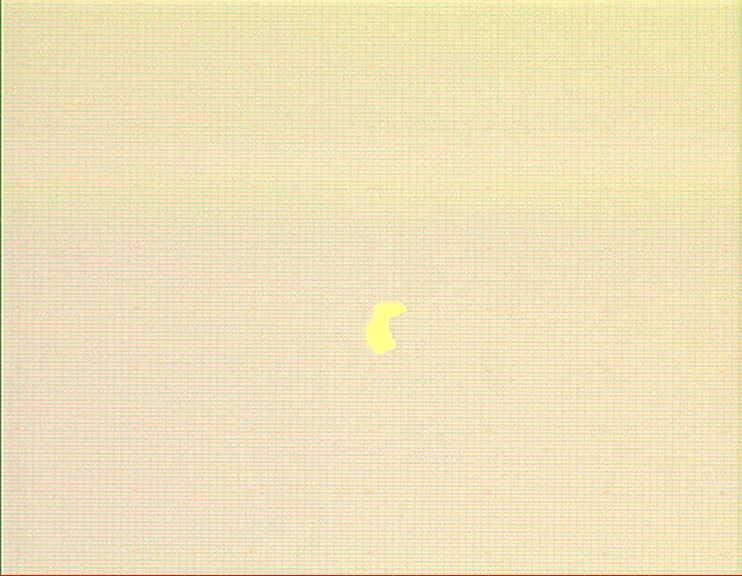BLOCK ETCH: (364, 301, 410, 355)
